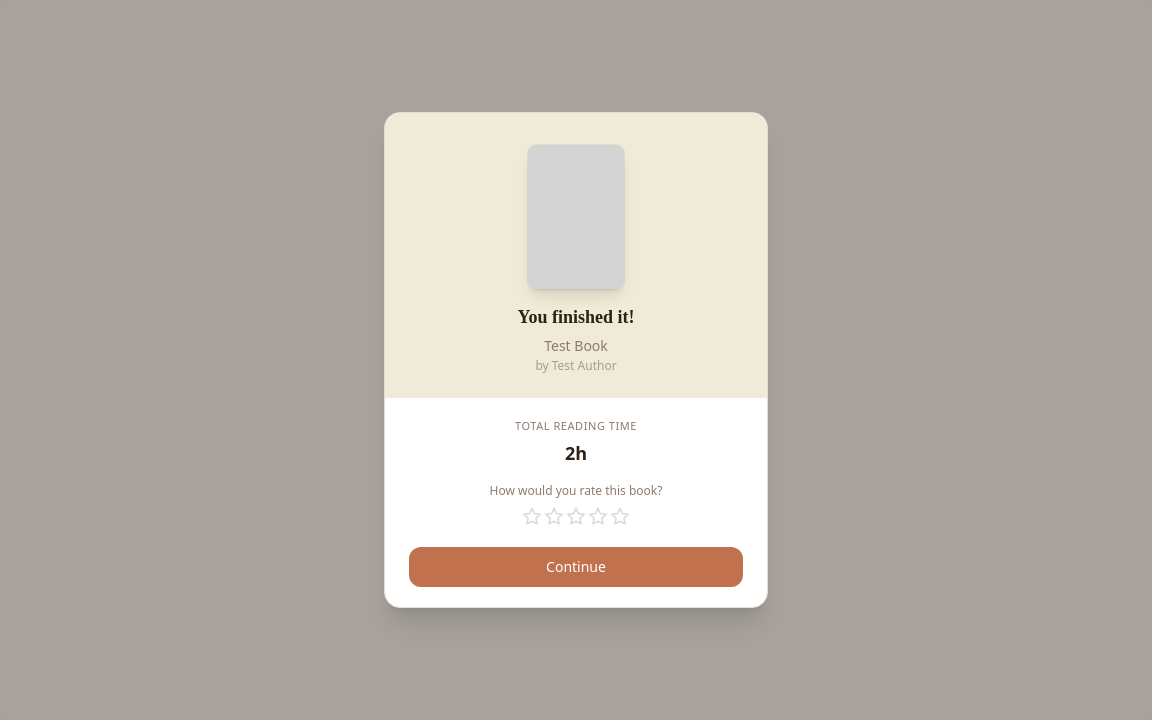
Test: BookCompletionModal › shows a success toast and inline confirmation when a star is clicked
Click the button named "4 stars" at (598, 517), box [588,507,608,527]
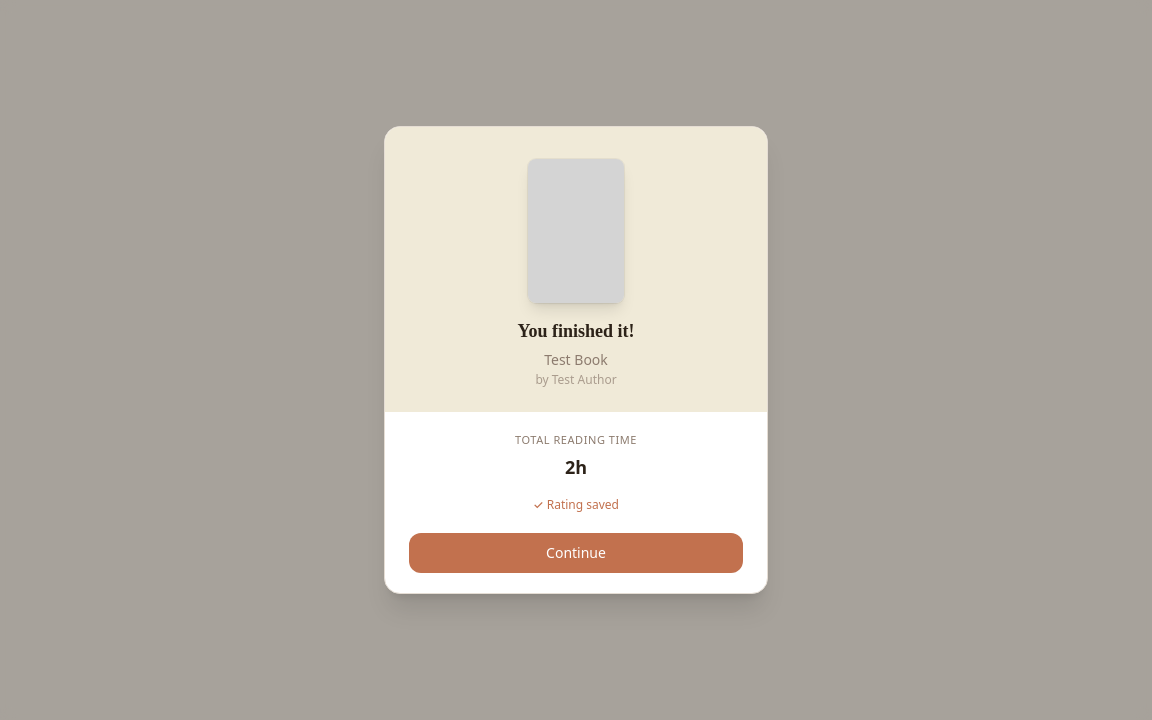
Expected: the text "✓ Rating saved" is shown, [533,496,619,513]
